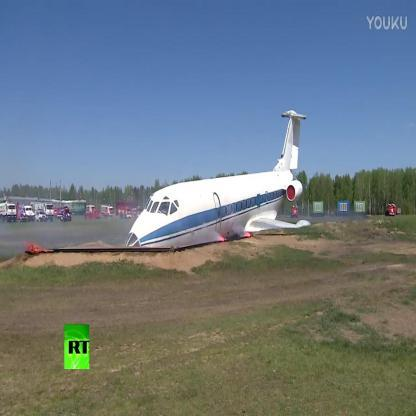smoke: (207, 231, 220, 240), (234, 219, 242, 232)
